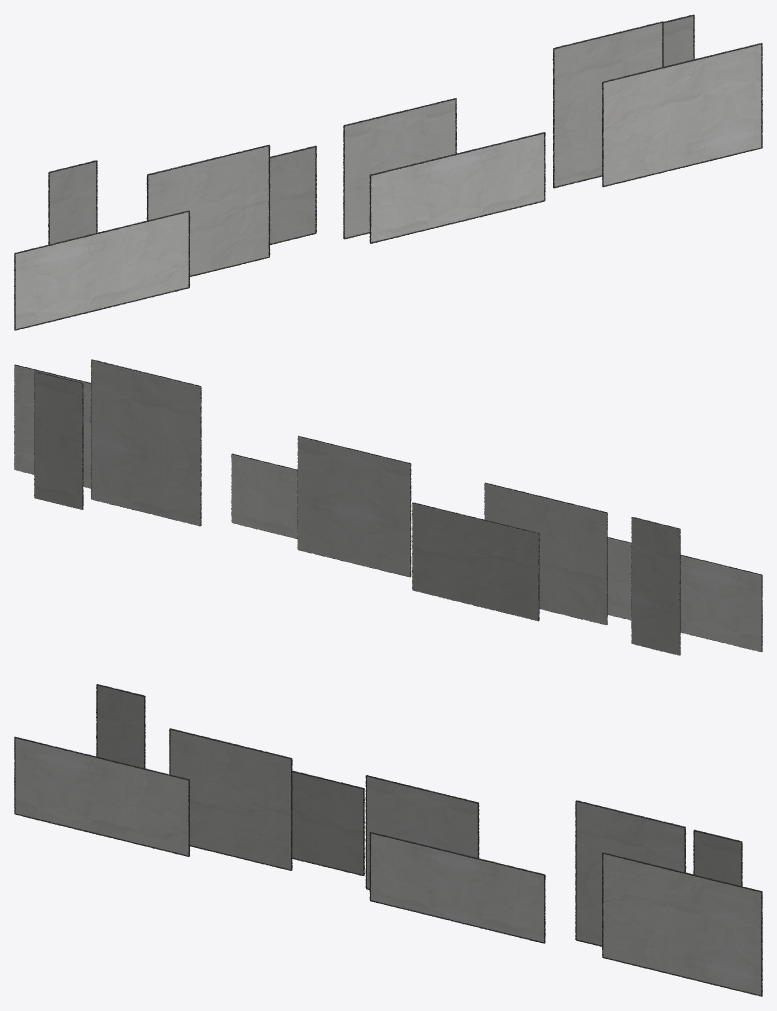
Rendered from decor_level0.glb.
3 views of the same model, one above another, from view 1: azimuth 30°, elevation 25°; view 2: azimuth 150°, elevation 25°; view 3: azimuth 330°, elevation 25° (orthographic).
Visible parts, largest first — view 1: tutorial_laag8, tutorial_laag9, tutorial_laag10; view 2: tutorial_laag9, tutorial_laag10, tutorial_laag8; view 3: tutorial_laag8, tutorial_laag9, tutorial_laag10.
Part boxes in pixels (x1=…): tutorial_laag8: x1=14, y1=43, x2=762, y2=330; tutorial_laag9: x1=146, y1=21, x2=663, y2=276; tutorial_laag10: x1=48, y1=14, x2=694, y2=244; tutorial_laag9: x1=90, y1=359, x2=607, y2=625; tutorial_laag10: x1=34, y1=371, x2=680, y2=655; tutorial_laag8: x1=14, y1=364, x2=762, y2=651; tutorial_laag8: x1=14, y1=736, x2=762, y2=996; tutorial_laag9: x1=169, y1=728, x2=686, y2=946; tutorial_laag10: x1=96, y1=684, x2=742, y2=886.
Bounding box in the file's own units: 54.13 × 9.73 × 3.14.
4 materials, 3 textured.
